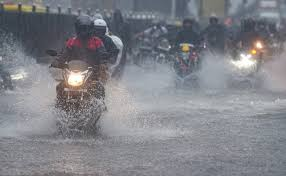motorcycle: (46, 45, 119, 133), (224, 40, 270, 90), (166, 43, 208, 86), (128, 36, 163, 72), (197, 34, 224, 60)
